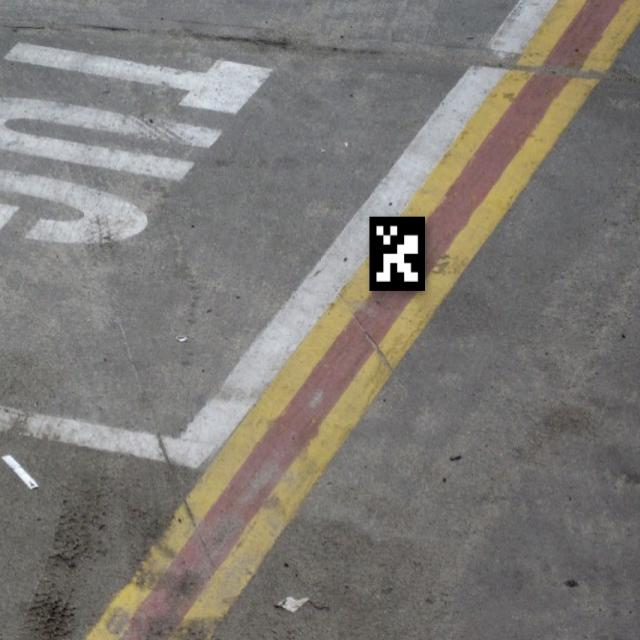marker: (363, 208, 431, 301)
